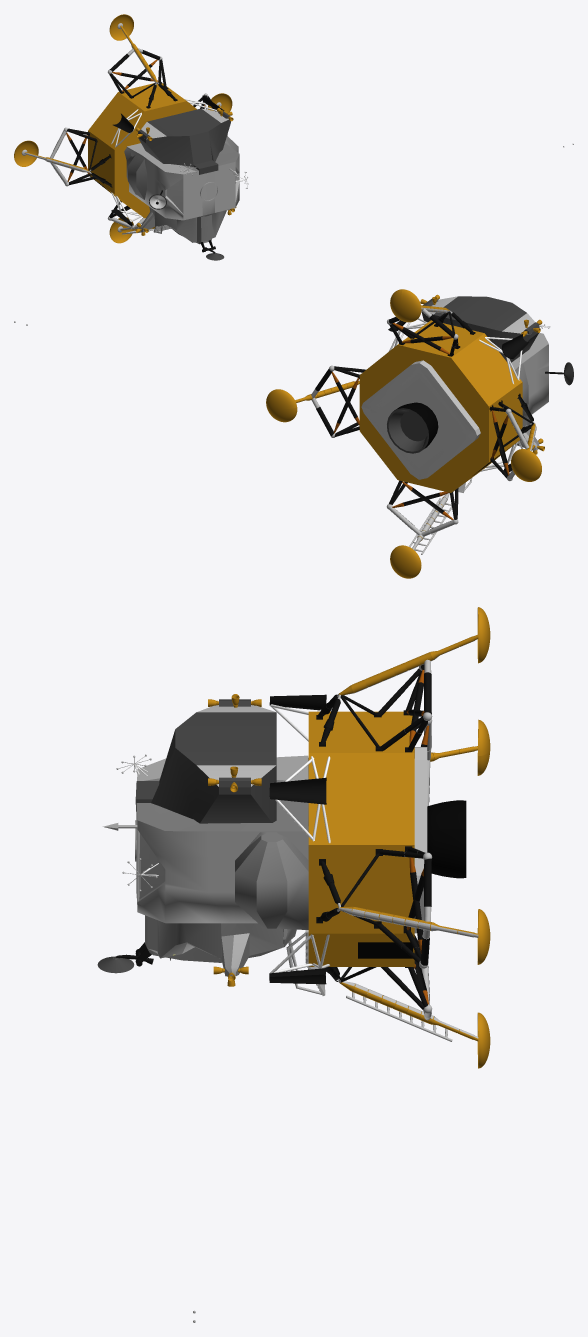
Rendered from apollo_model.glb.
The picture shows the model from 3 angles, top to bottom: view 1: azimuth 30°, elevation 25°; view 2: azimuth 150°, elevation 25°; view 3: azimuth 270°, elevation 25°; orthographic projection. The views are drawn at different scales.
Visible parts, largest first — view 1: pCylinder1, polySurfac, pCube2, polySurfac_1, group31_19, pCylinde10, pCube2_1; view 2: pCylinder1, group13_p2, group31_19, pCube2, polySurfac, group13_pC, group31_g8, pCylinder3, group13_pC_1, pCube2_1, group31_g7, group31_15 (+3 smaller); view 3: pCylinder1, polySurfac, pCube2, polySurfac_1, pCylinder9, group13_pC_1, group31_19, group31_15, group13_p2, group31_16, pCube2_1, group75_10 (+2 smaller).
Part boxes in pixels (x1=…): pCylinder1: x1=88, y1=83, x2=196, y2=218; polySurfac: x1=126, y1=143, x2=239, y2=228; pCube2: x1=138, y1=108, x2=230, y2=174; polySurfac_1: x1=141, y1=143, x2=239, y2=244; group31_19: x1=14, y1=14, x2=232, y2=243; pCylinde10: x1=124, y1=148, x2=146, y2=199; pCube2_1: x1=141, y1=108, x2=228, y2=139; pCylinder1: x1=359, y1=320, x2=522, y2=492; group13_p2: x1=361, y1=360, x2=480, y2=479; group31_19: x1=266, y1=289, x2=541, y2=578; pCube2: x1=421, y1=296, x2=539, y2=363; polySurfac: x1=509, y1=333, x2=548, y2=450; group13_pC: x1=387, y1=408, x2=428, y2=453; group31_g8: x1=336, y1=327, x2=506, y2=506; pCylinder3: x1=337, y1=336, x2=507, y2=513; group13_pC_1: x1=393, y1=402, x2=438, y2=448; pCube2_1: x1=429, y1=296, x2=534, y2=334; group31_g7: x1=311, y1=389, x2=528, y2=535; group31_15: x1=295, y1=305, x2=535, y2=538; pCylinder1: x1=308, y1=711, x2=414, y2=966; polySurfac: x1=136, y1=755, x2=308, y2=976; pCube2: x1=135, y1=712, x2=276, y2=823; polySurfac_1: x1=136, y1=778, x2=308, y2=976; pCylinder9: x1=235, y1=832, x2=308, y2=929; group13_pC_1: x1=427, y1=800, x2=466, y2=878; group31_19: x1=477, y1=607, x2=490, y2=1068; group31_15: x1=339, y1=635, x2=478, y2=1041; group13_p2: x1=414, y1=747, x2=427, y2=933; group31_16: x1=340, y1=634, x2=478, y2=1041; pCube2_1: x1=197, y1=705, x2=275, y2=786; group75_10: x1=269, y1=777, x2=326, y2=804.
Bounding box in the file's own units: 14.41 × 6.43 × 5.01.
